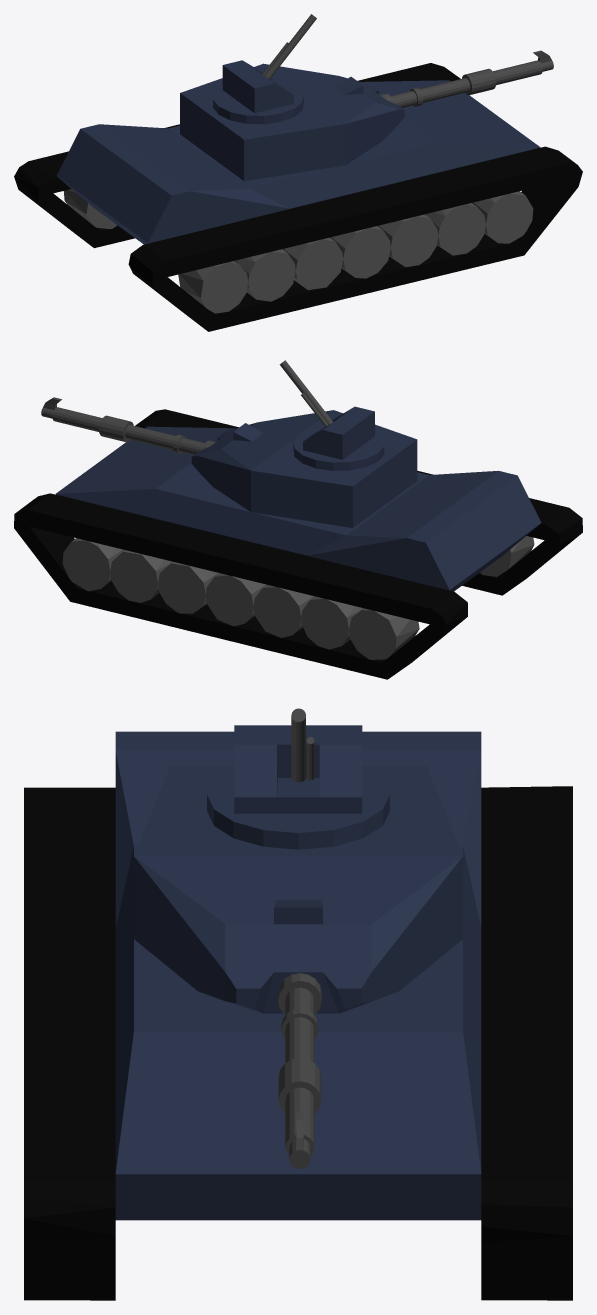
Rendered from tank.fbx.
The picture shows the model from 3 angles, top to bottom: view 1: azimuth 30°, elevation 25°; view 2: azimuth 150°, elevation 25°; view 3: azimuth 270°, elevation 25°; orthographic projection. The views are drawn at different scales.
Parts seen in each view (by area): view 1: Body, Turret, Machine Gun Base, Cannon, Machine Gun; view 2: Body, Turret, Machine Gun Base, Cannon, Machine Gun; view 3: Body, Turret, Machine Gun Base, Cannon, Machine Gun.
Part boxes in pixels (x1=…): Body: x1=14, y1=63, x2=582, y2=331; Turret: x1=180, y1=63, x2=404, y2=181; Machine Gun Base: x1=213, y1=60, x2=303, y2=124; Cannon: x1=380, y1=50, x2=553, y2=107; Machine Gun: x1=262, y1=14, x2=316, y2=79; Body: x1=14, y1=409, x2=582, y2=679; Turret: x1=191, y1=410, x2=417, y2=527; Machine Gun Base: x1=293, y1=406, x2=384, y2=470; Cannon: x1=41, y1=397, x2=215, y2=454; Machine Gun: x1=279, y1=360, x2=332, y2=426; Body: x1=24, y1=731, x2=572, y2=1300; Turret: x1=134, y1=766, x2=462, y2=1013; Machine Gun Base: x1=207, y1=725, x2=389, y2=849; Cannon: x1=278, y1=973, x2=321, y2=1168; Machine Gun: x1=291, y1=708, x2=314, y2=782.
Size of the model in its own units: 592 by 272 by 300.
